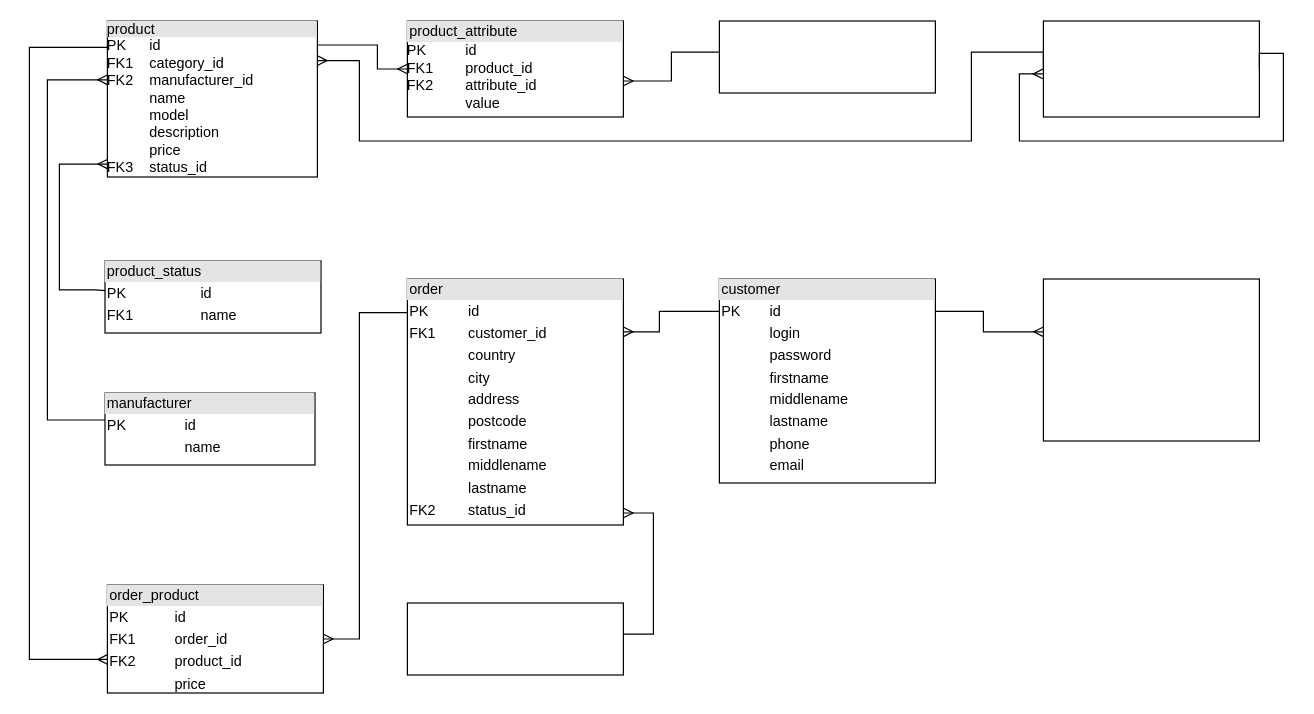
Image size: 1314x714. Some labels were removed from this diagram. The box of each missing label's shape, as (x1, y1, x2, y2) in pixels:
address PK id FK1 customer_id country city address postcode: (1042, 278, 1259, 441)
attribute PK id name: (718, 20, 935, 93)
category PK id FK1 parent_id name: (1042, 20, 1259, 117)
order_status PK id name: (406, 602, 623, 675)
